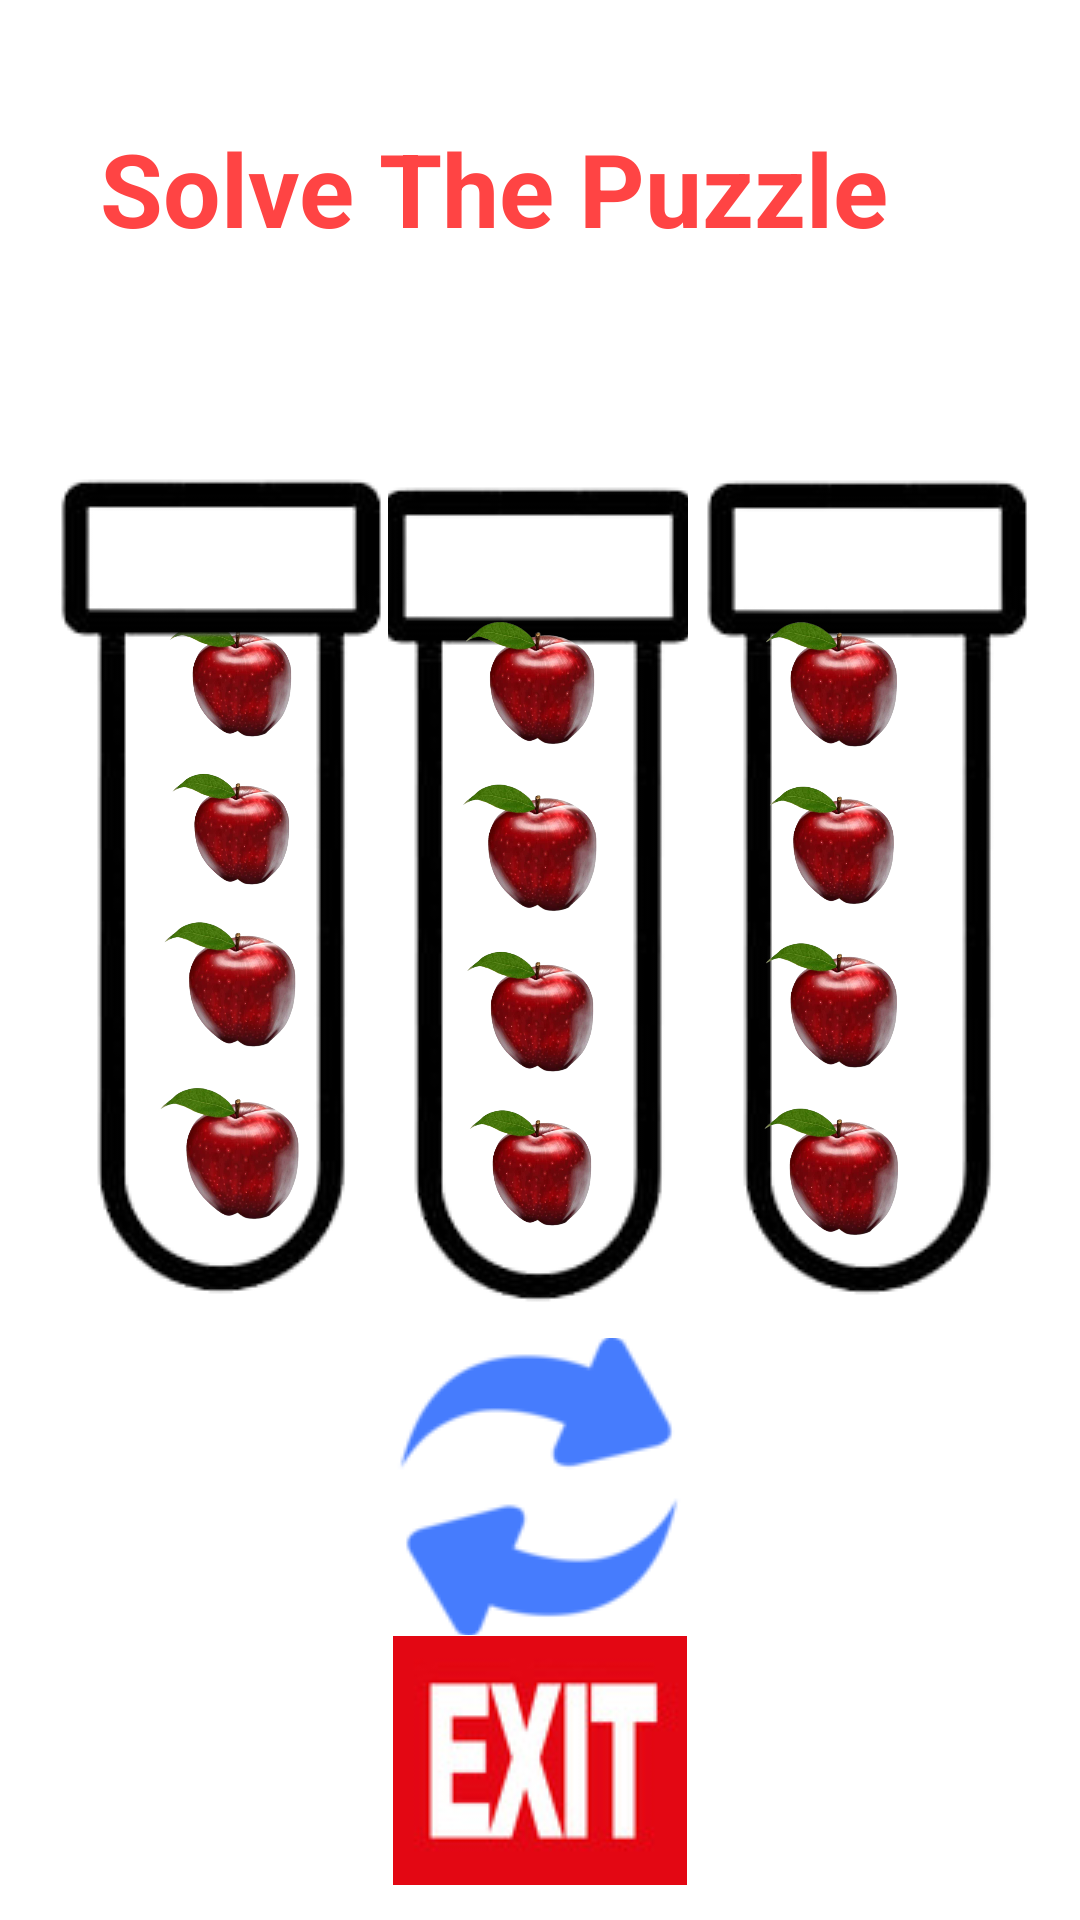

Where to tap for icons on this 1080x1920 app screen, as (x,y):
Refresh: (538,1486)
